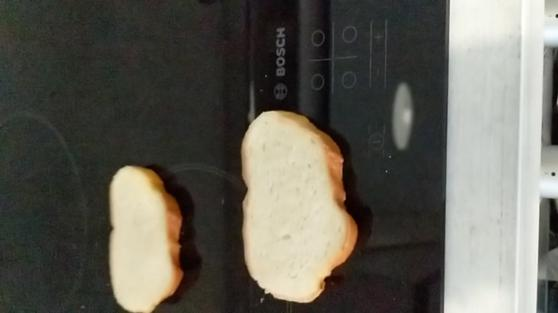white_bread: (239, 109, 359, 303), (104, 162, 185, 313)
